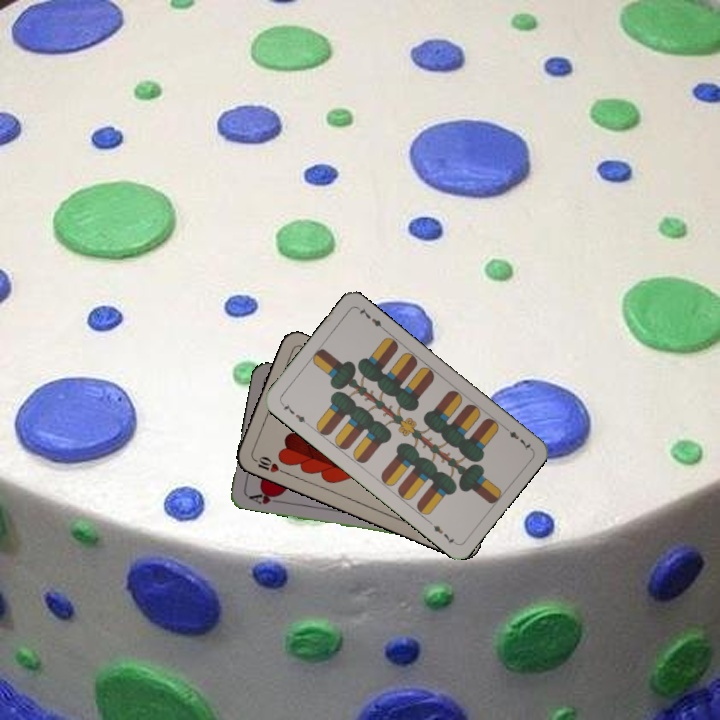E7: (500, 422, 534, 453), (277, 398, 308, 425)
H10: (249, 452, 288, 476)
HA: (244, 487, 284, 507)
